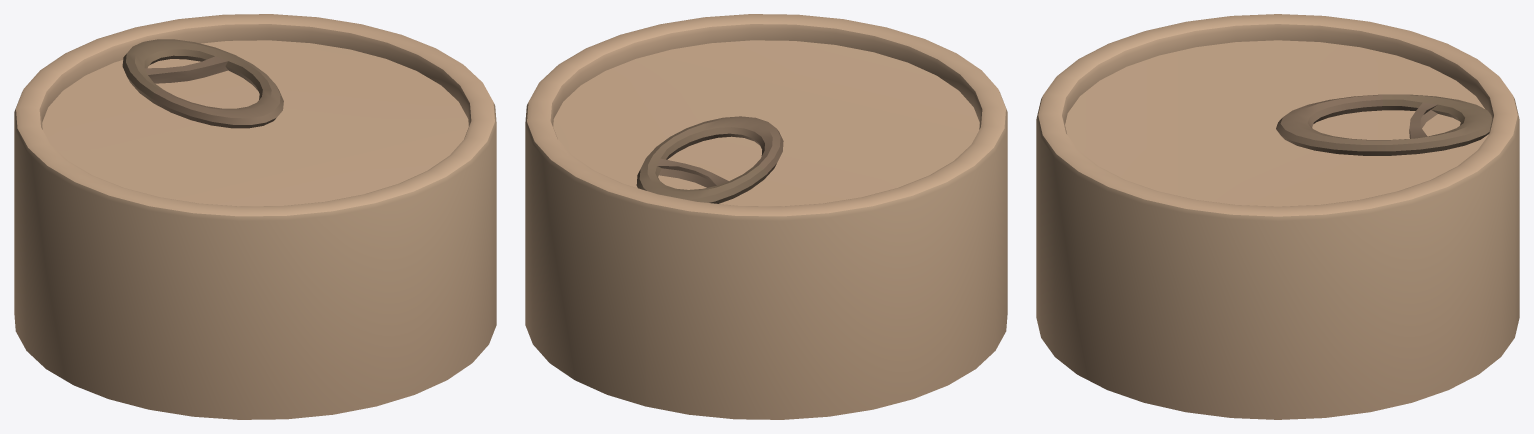
Rendered from can2.fbx.
3 renders of one model, left to right at view 1: azimuth 30°, elevation 25°; view 2: azimuth 150°, elevation 25°; view 3: azimuth 270°, elevation 25°, orthographic.
Visible parts, largest first — view 1: can2; view 2: can2; view 3: can2.
Boxes of the visible parts, x1=… form: can2: x1=14, y1=14, x2=496, y2=419; can2: x1=525, y1=14, x2=1007, y2=419; can2: x1=1036, y1=14, x2=1519, y2=419.
Bounding box in the file's own units: 1080 × 503 × 1080.
